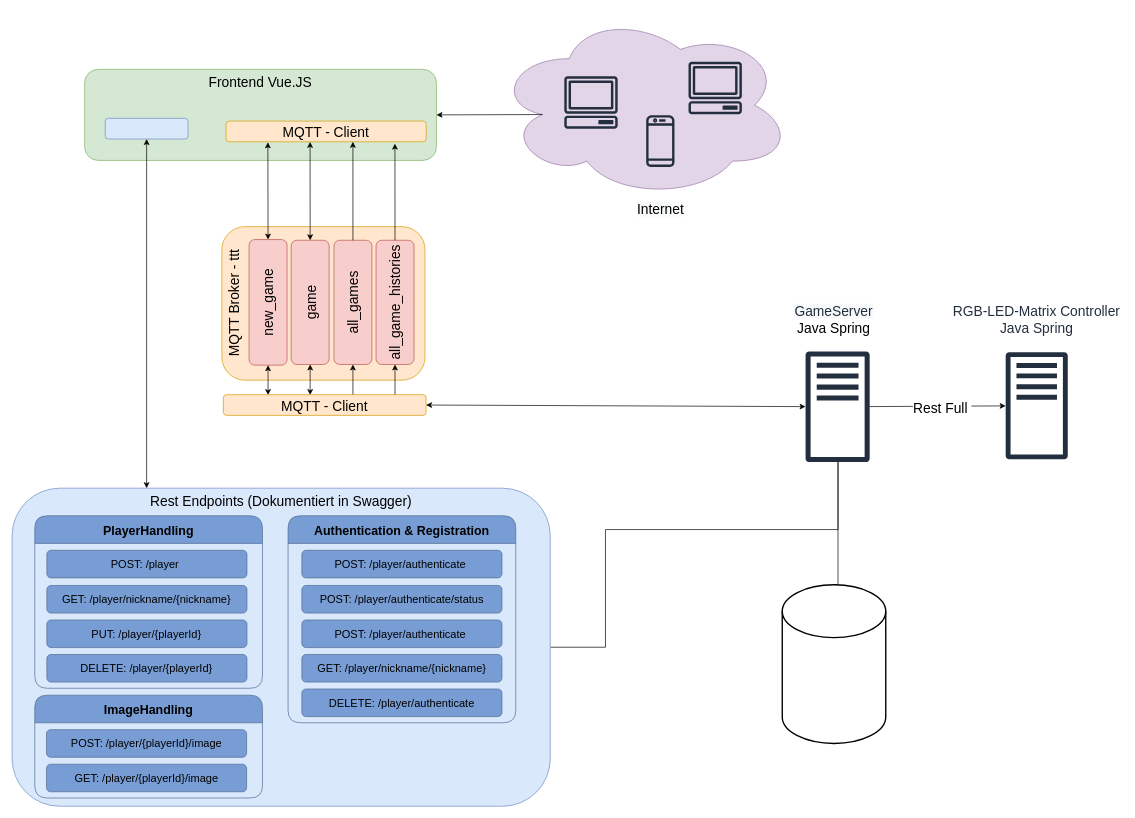
Some shapes in this 1135 by 818 pixel diagram are drawn without their labels. The centre of each missing label's shape, as x and y in pixels:
"Axios" goes at (x=146, y=128).
"tic tac toe MySQL" goes at (x=833, y=664).
